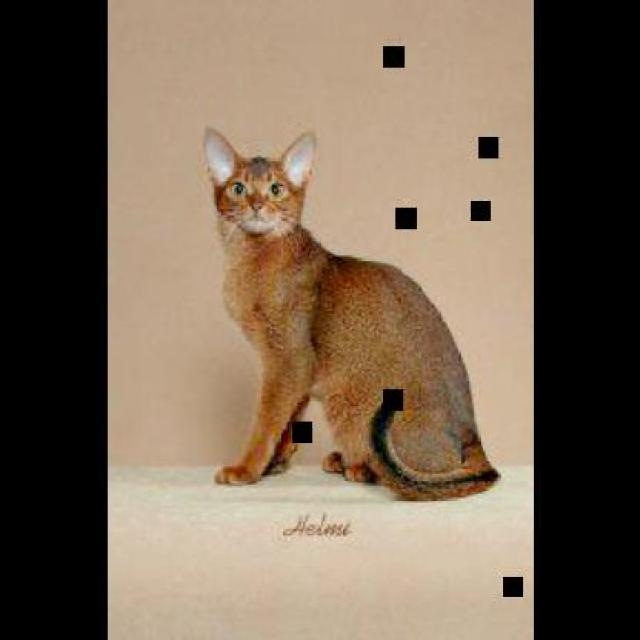unauthorized: (200, 124, 500, 502)
